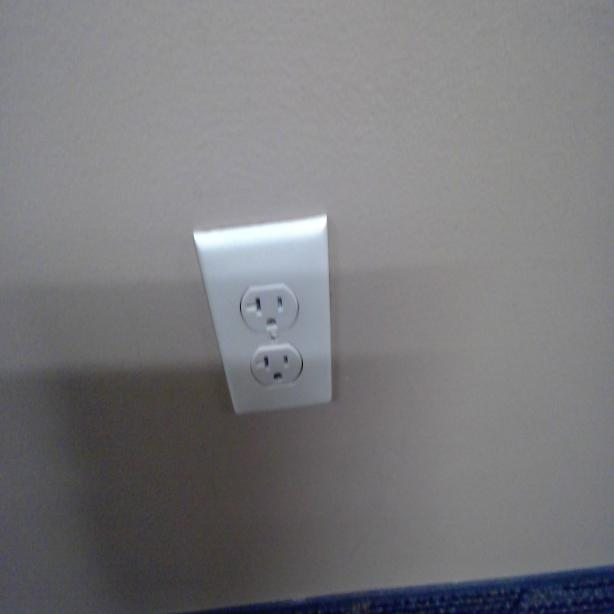typeb: (243, 286, 291, 337), (253, 350, 292, 388)
